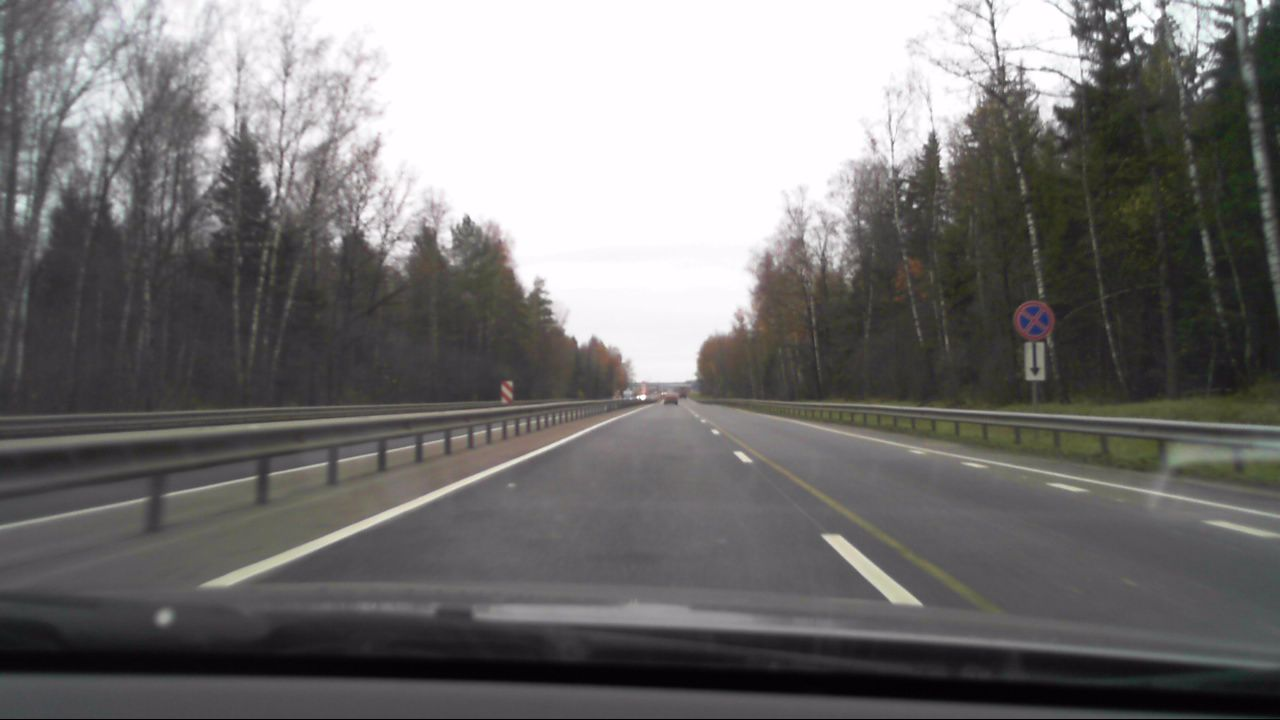No Parking: (1010, 300, 1056, 342)
